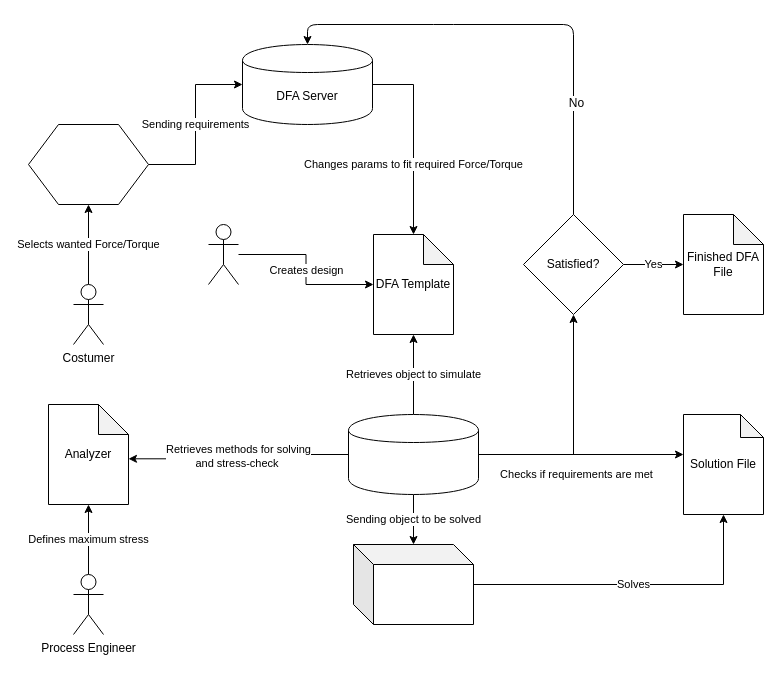
This 781x673 diagram has some shape labels left out. The centre of each missing label's shape, as x and y in pixels:
"Costumer interface (Web server)" belongs at (88,164).
"Nastran (in NX)" belongs at (413,584).
"NX Server" belongs at (413,454).
"Product Designer" belongs at (223,254).
